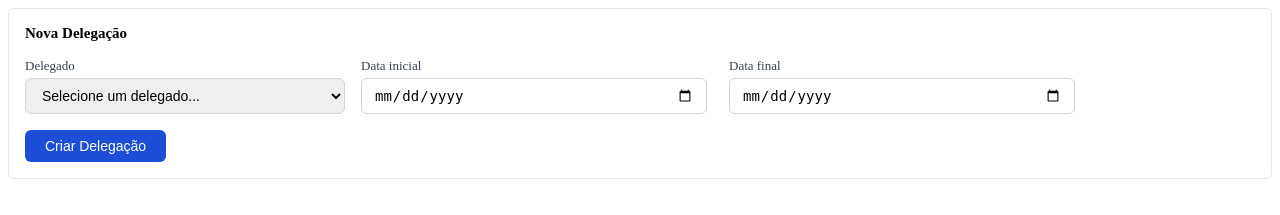
DelegationForm › shows error when endDate < startDate, passes axe
Select "Bruno Mendes" in the dropdown labelled "Delegado" at {"x": 185, "y": 96}, box x1=25 y1=78 x2=345 y2=114
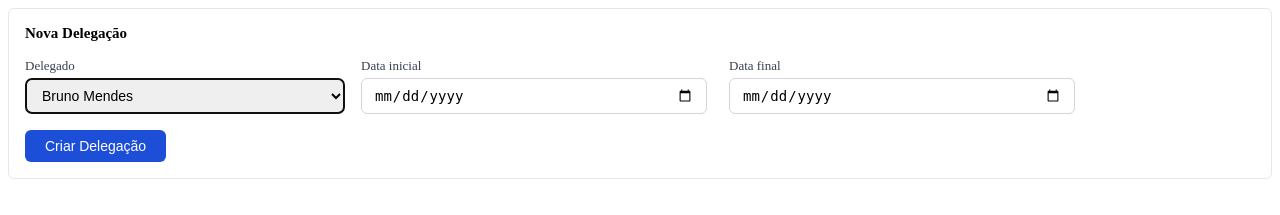
Type "2026-04-15" into the date field labelled "Data inicial".
click(534, 96); type("2026-04-15")  # box x1=361 y1=78 x2=707 y2=114
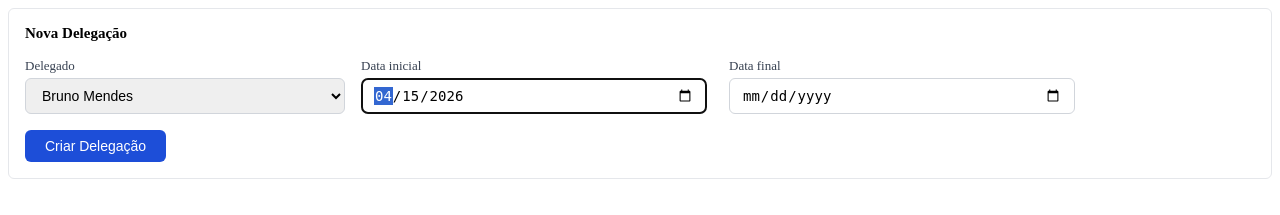
Type "2026-04-10" into the date field labelled "Data final".
click(902, 96); type("2026-04-10")  # box x1=729 y1=78 x2=1075 y2=114
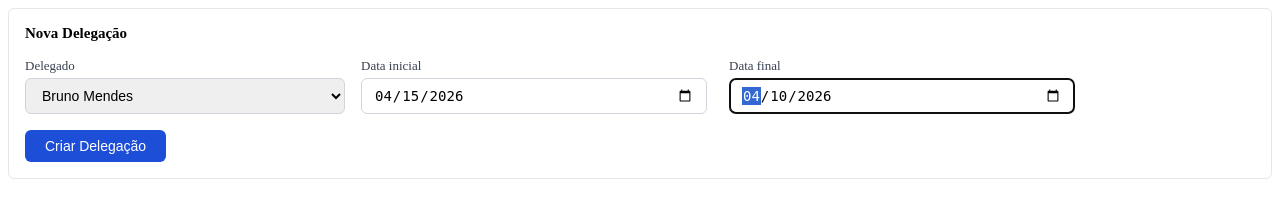
Click the button "Criar Delegação".
click(96, 146)  # box x1=25 y1=130 x2=166 y2=162
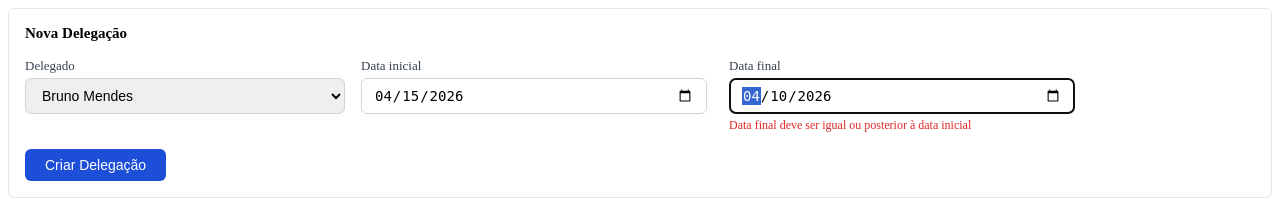
Check: the text "Data final deve ser igual ou posterior à data inicial" is shown, box x1=729 y1=118 x2=971 y2=132
